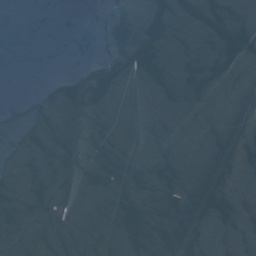Marine Debris: (45, 53, 117, 98)
Ship: (62, 163, 79, 219), (124, 58, 139, 92)
